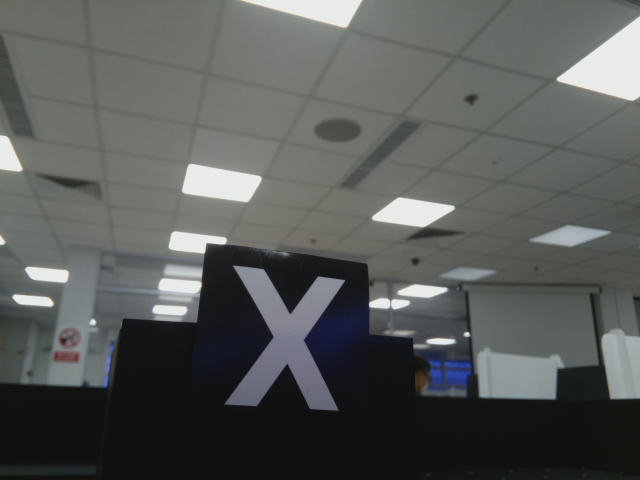x: (217, 249, 354, 417)
